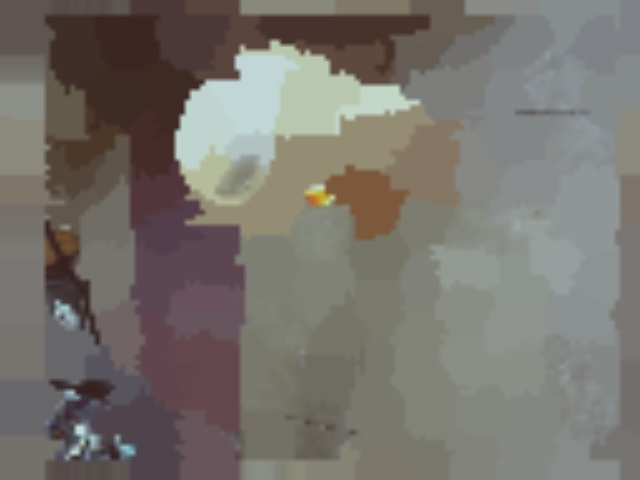eight: (187, 97, 228, 128)
